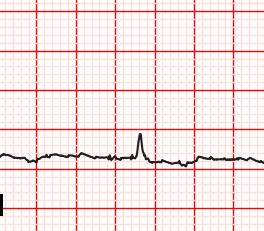Poor R Progression: (131, 128, 150, 165)
